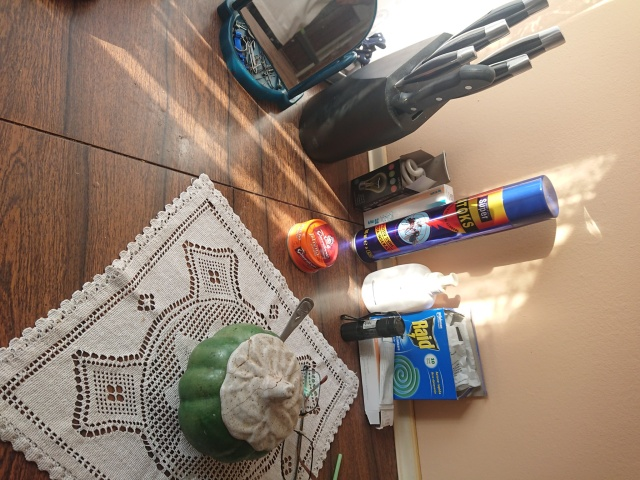Gavrilovic Pork Liver Pate 100g: (283, 216, 341, 276)
